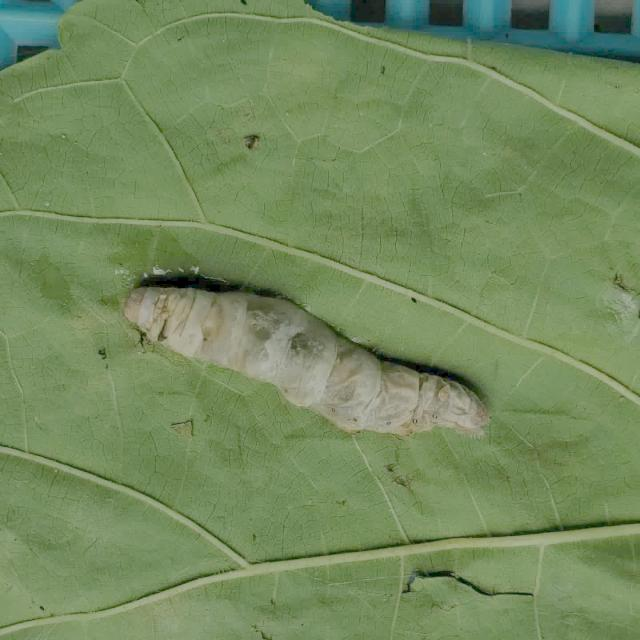Grasserie: (83, 224, 526, 481)
